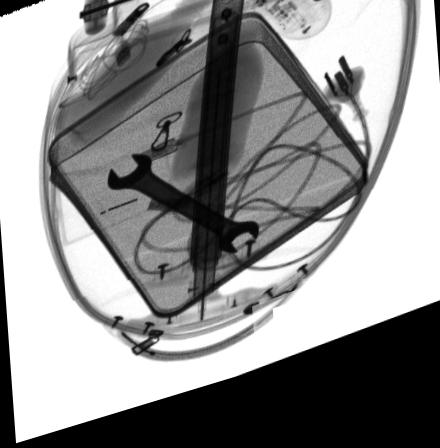Wrench: (105, 160, 259, 268)
